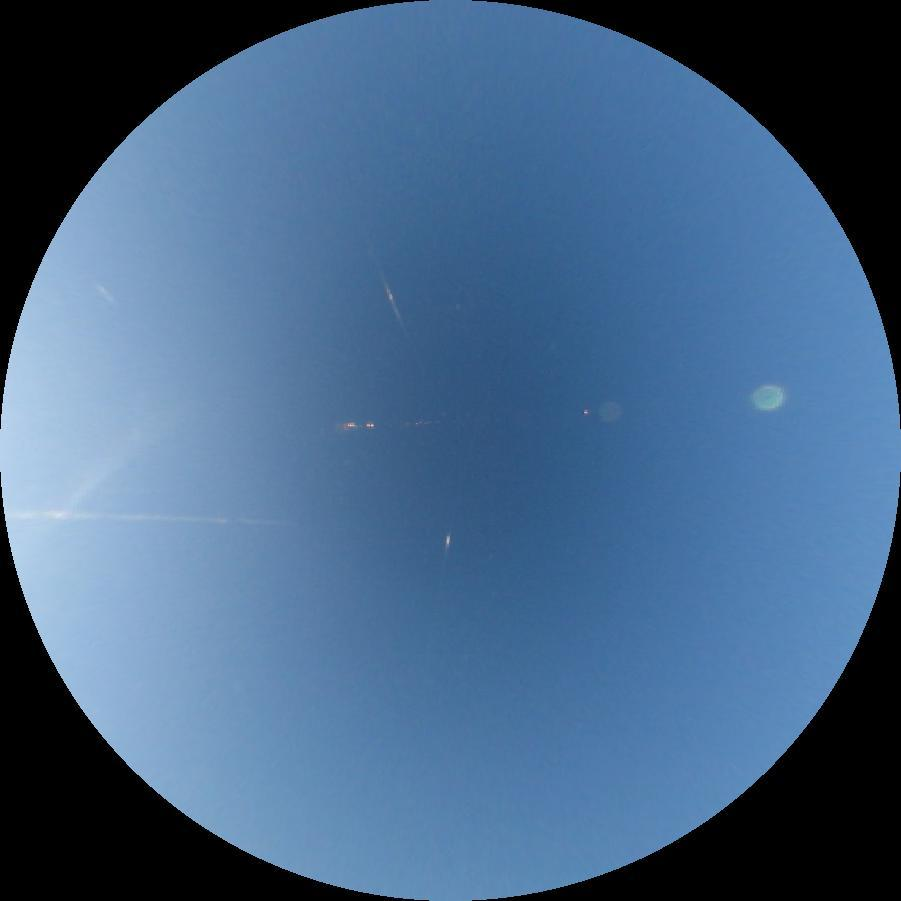parasite: (364, 249, 449, 417), (7, 509, 300, 530), (439, 518, 455, 578), (94, 284, 119, 304)
